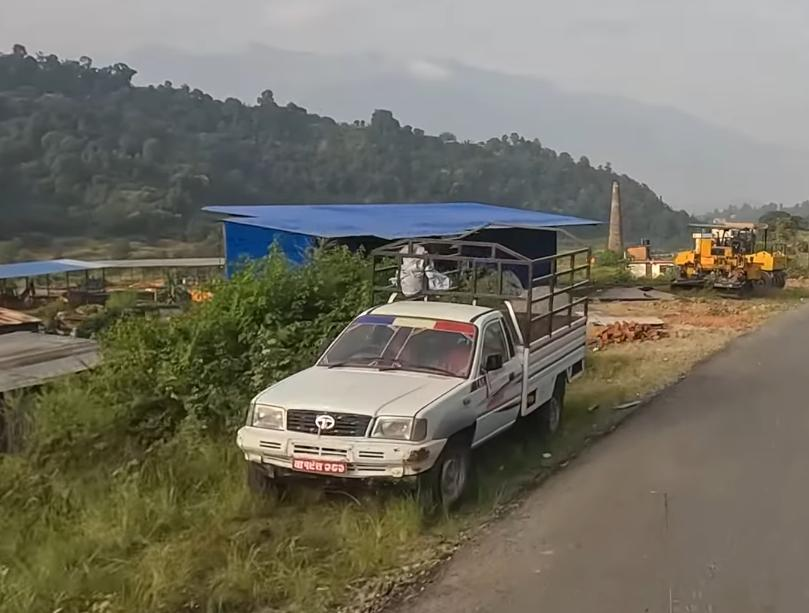transport_vehicle: (229, 226, 605, 504)
